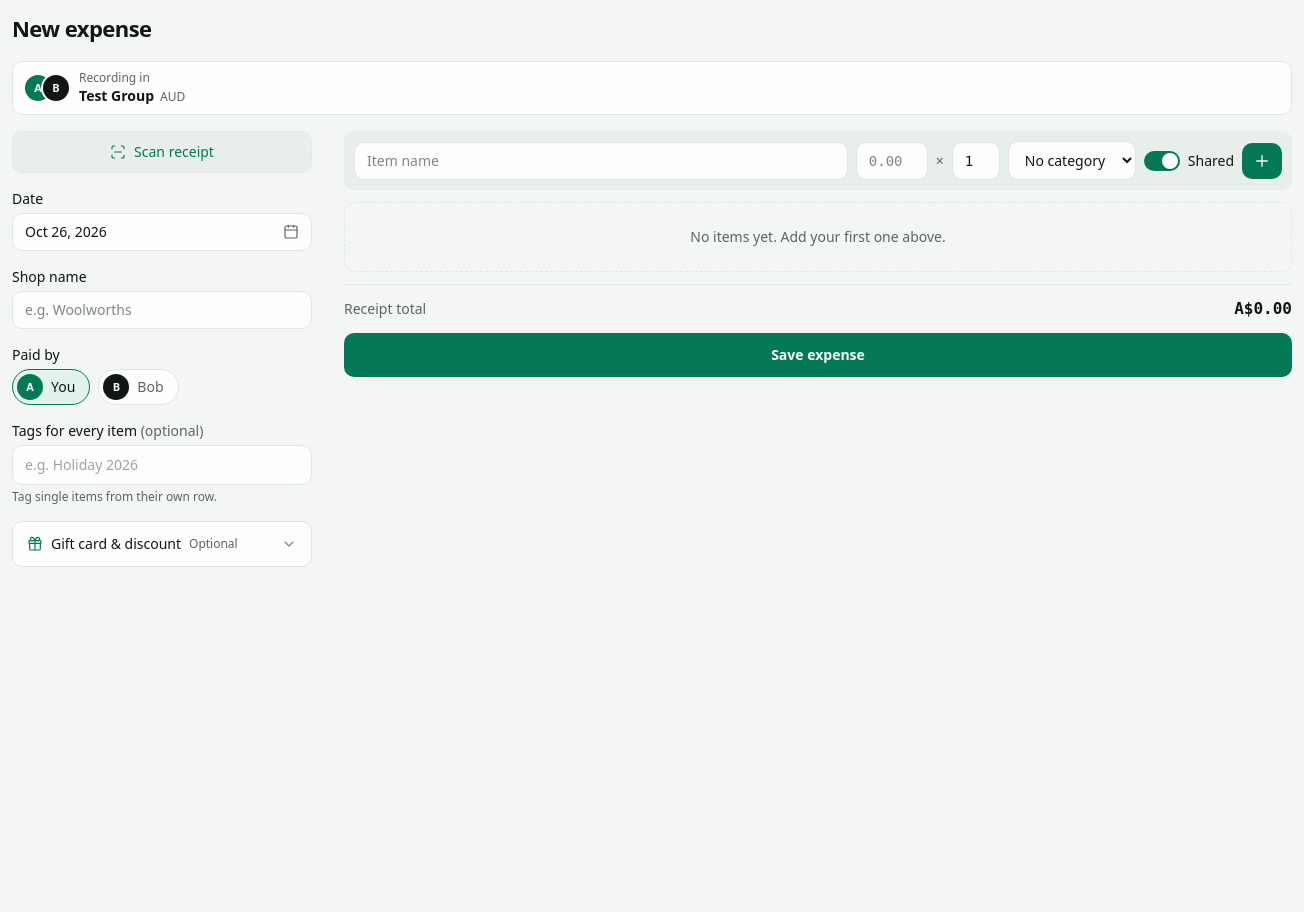
Test: ExpenseEditor › renders a remark input when an item row is expanded
This screenshot has width=1304, height=912.
Type "Milk" into the dropdown with placeholder "Item name".
click(601, 160); type("Milk")  # box [354,142,848,180]
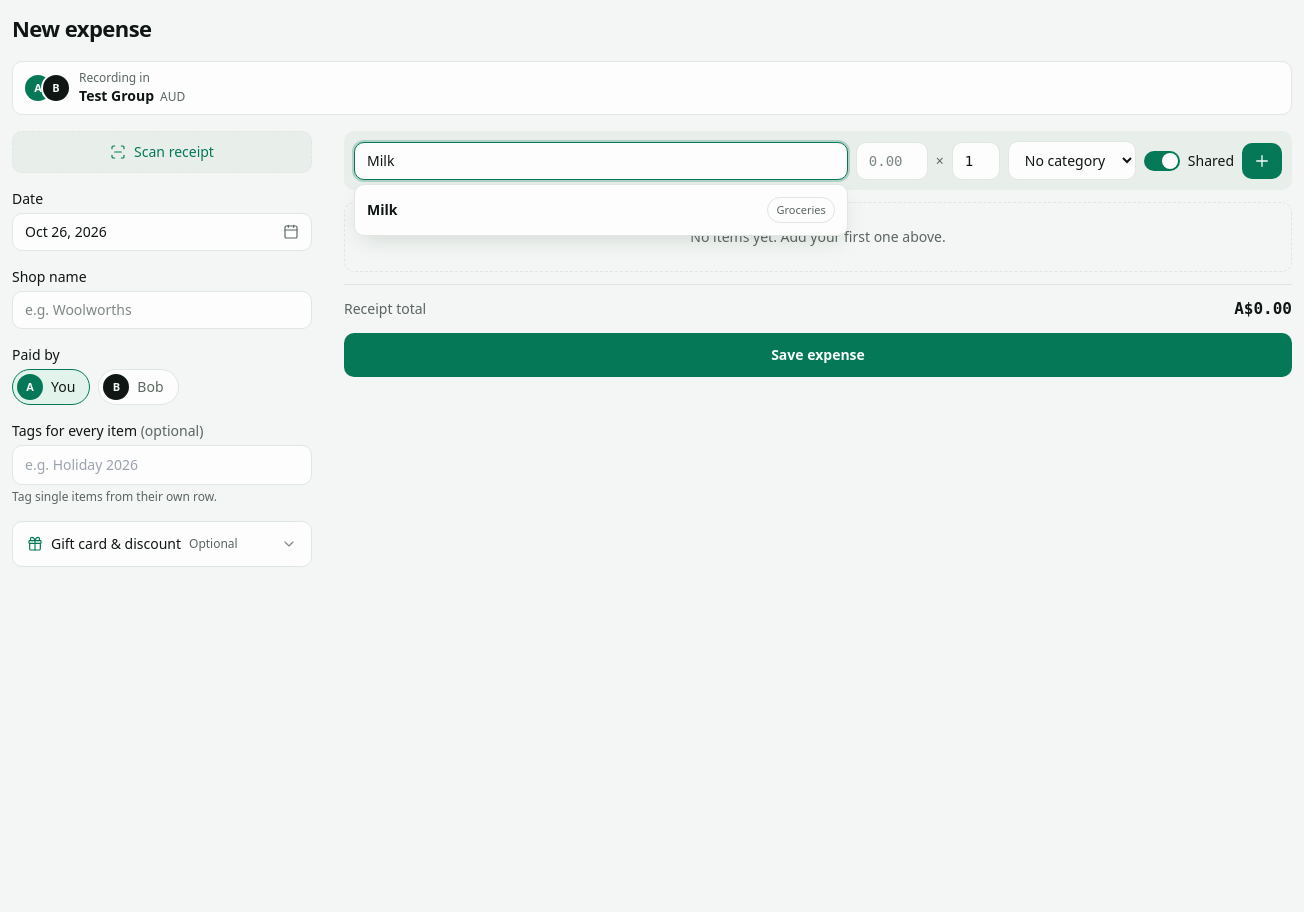
Type "3.00" into the field named "unit price".
click(892, 160); type("3.00")  # box [856,142,928,180]
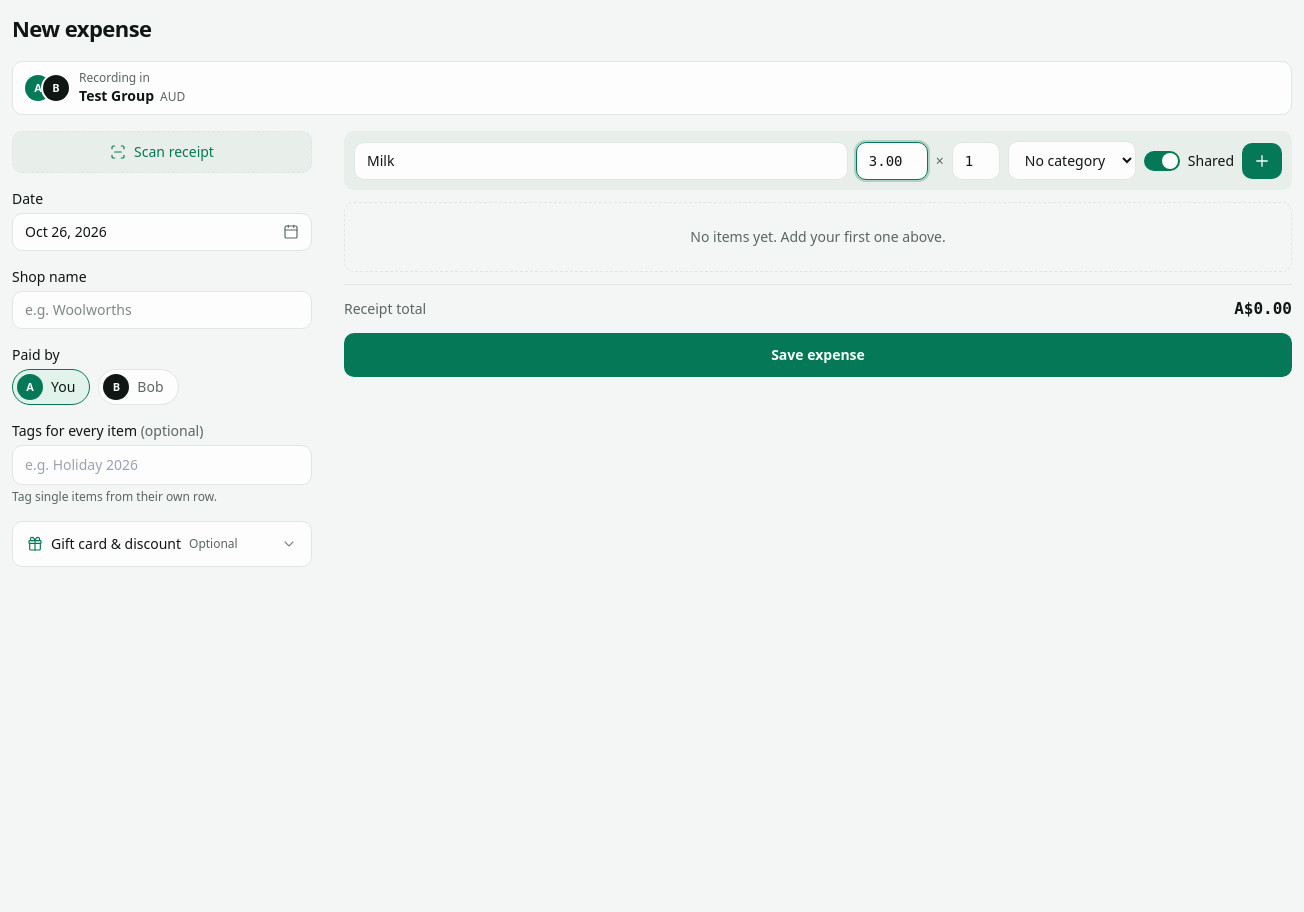
Click the button named "add item".
click(1262, 160)  # box [1242,142,1282,178]
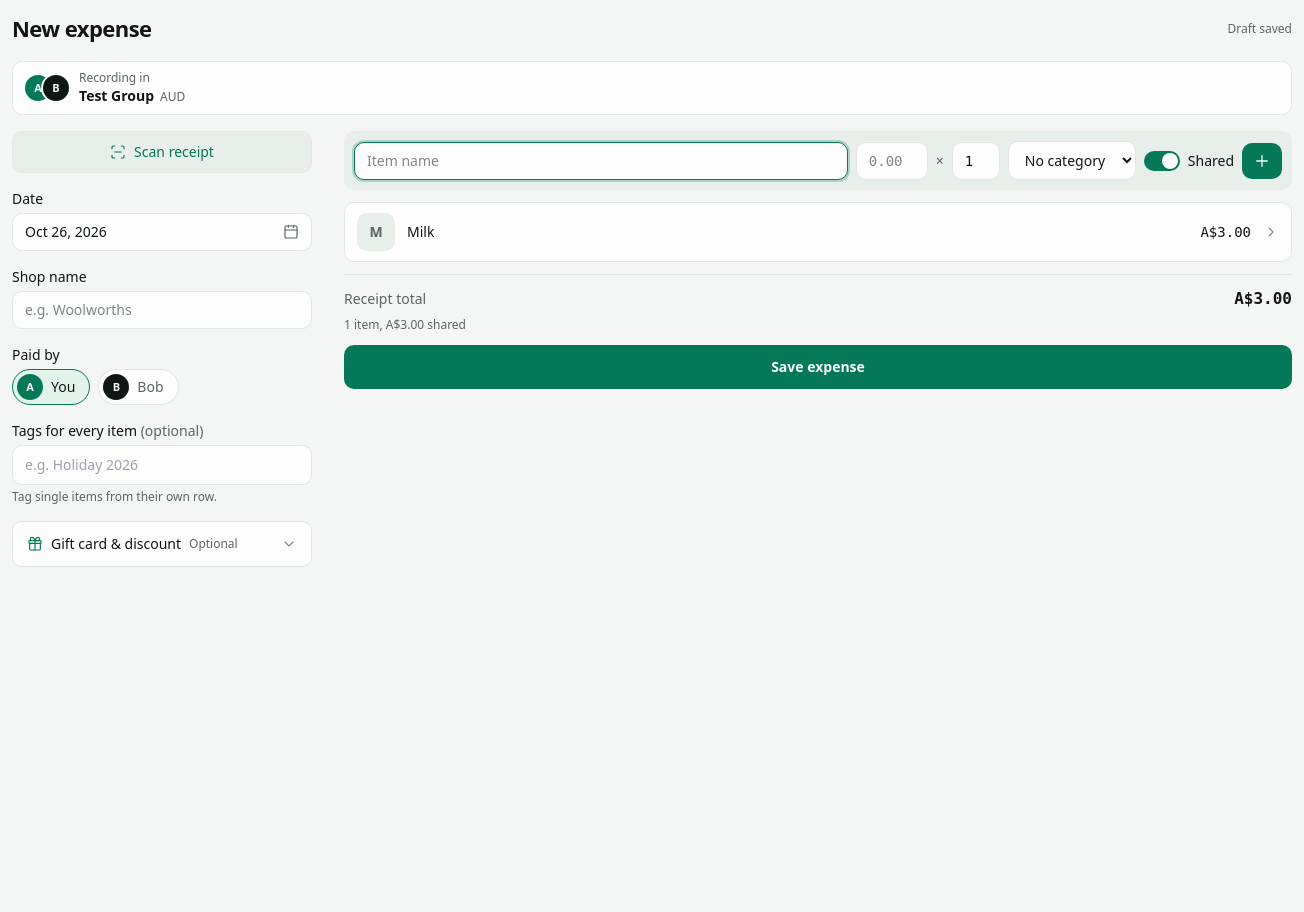
Click the button "M Milk A$3.00".
click(376, 232)  # box [345,203,1291,261]
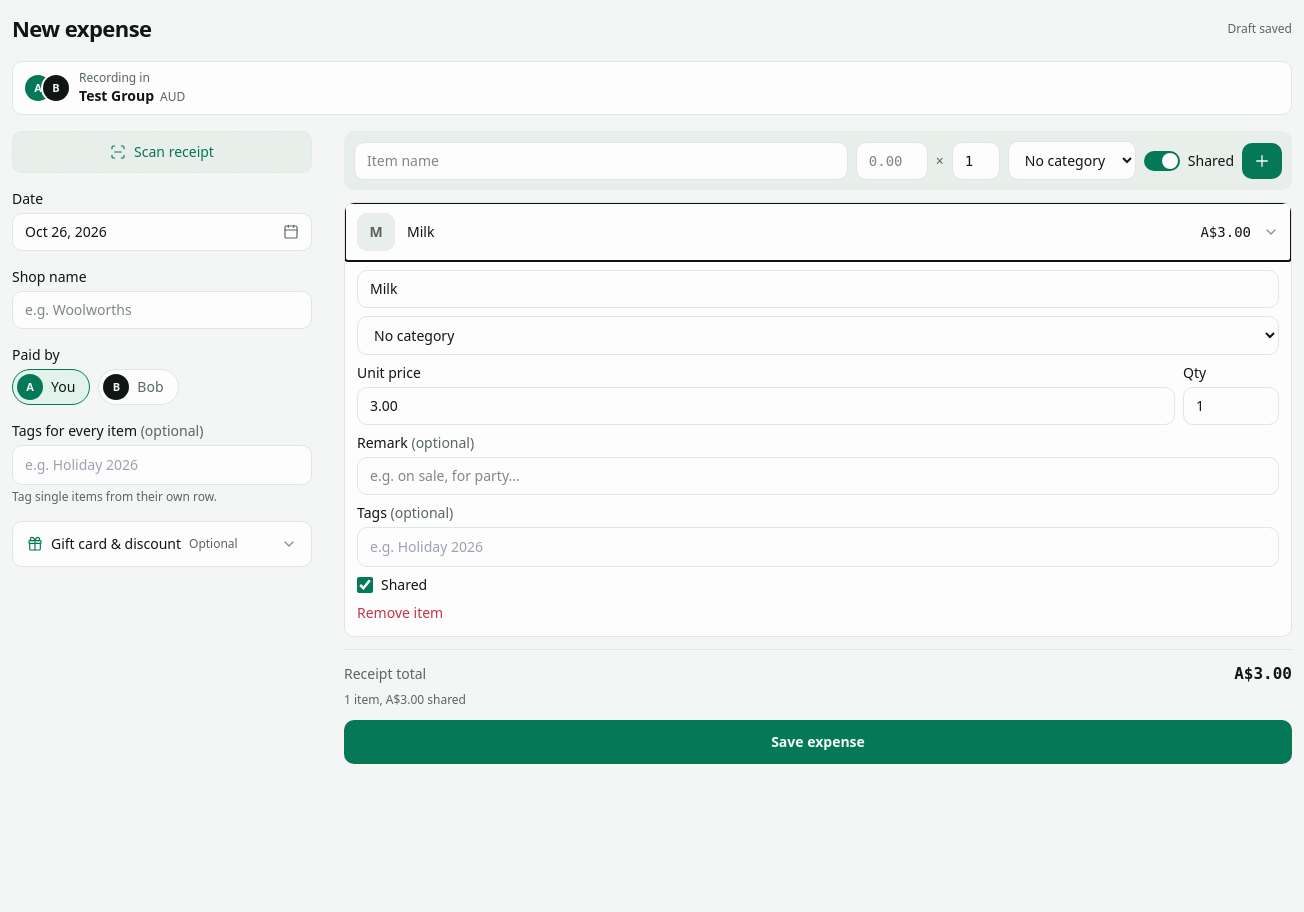
Expected: the field with placeholder "e.g. on sale, for party…" is shown, [357,457,1279,495]
